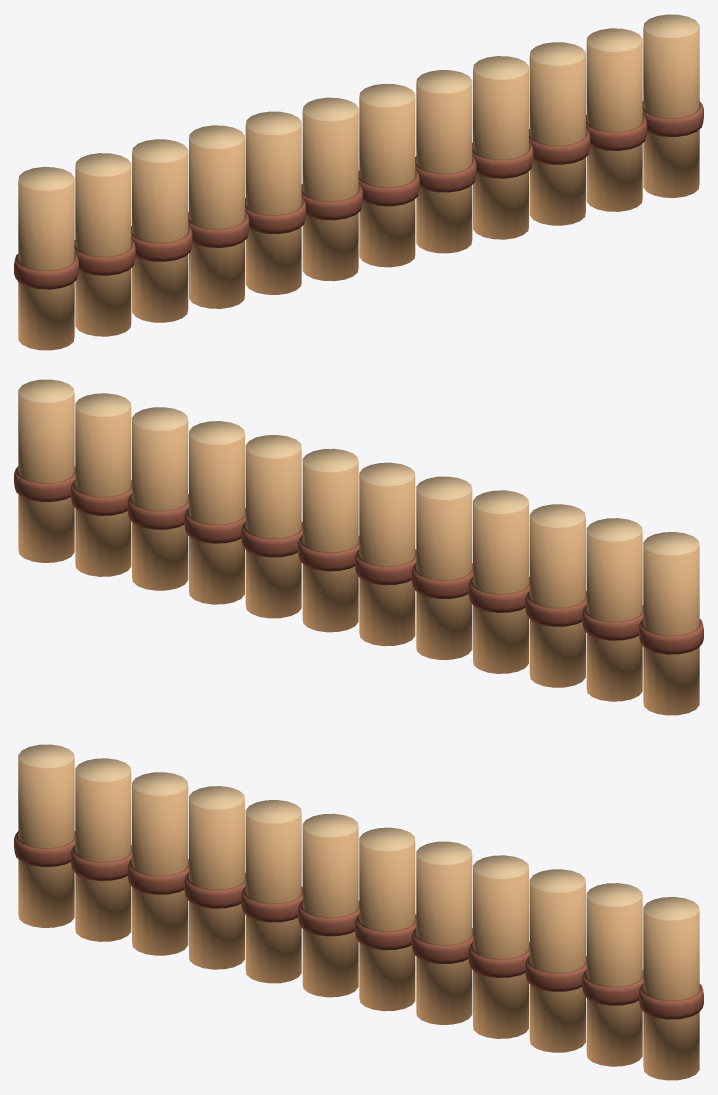
The picture shows the model from 3 angles, top to bottom: view 1: azimuth 30°, elevation 25°; view 2: azimuth 150°, elevation 25°; view 3: azimuth 330°, elevation 25°; orthographic projection.
Visible parts, largest first — view 1: Cylinder.008; view 2: Cylinder.008; view 3: Cylinder.008.
Boxes of the visible parts, x1,y1,x2,y2 form: Cylinder.008: [14, 14, 703, 350]; Cylinder.008: [14, 379, 703, 715]; Cylinder.008: [14, 744, 703, 1080].
Bounding box in the file's own units: 2.25 × 0.5039 × 0.1874.
Materials: 1 (1 with a texture image).
